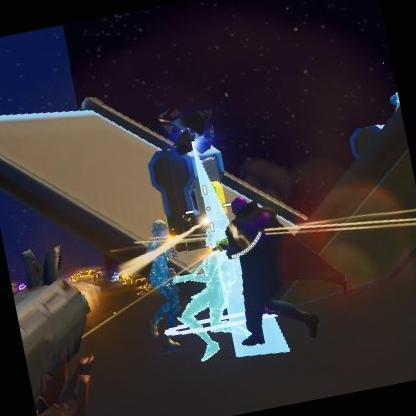person: (210, 182, 300, 356), (134, 219, 186, 346)
